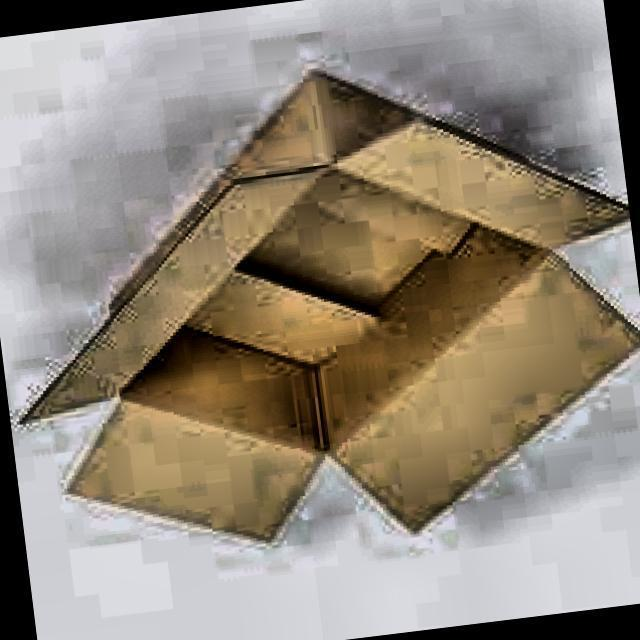cardboard: (0, 35, 640, 586)
